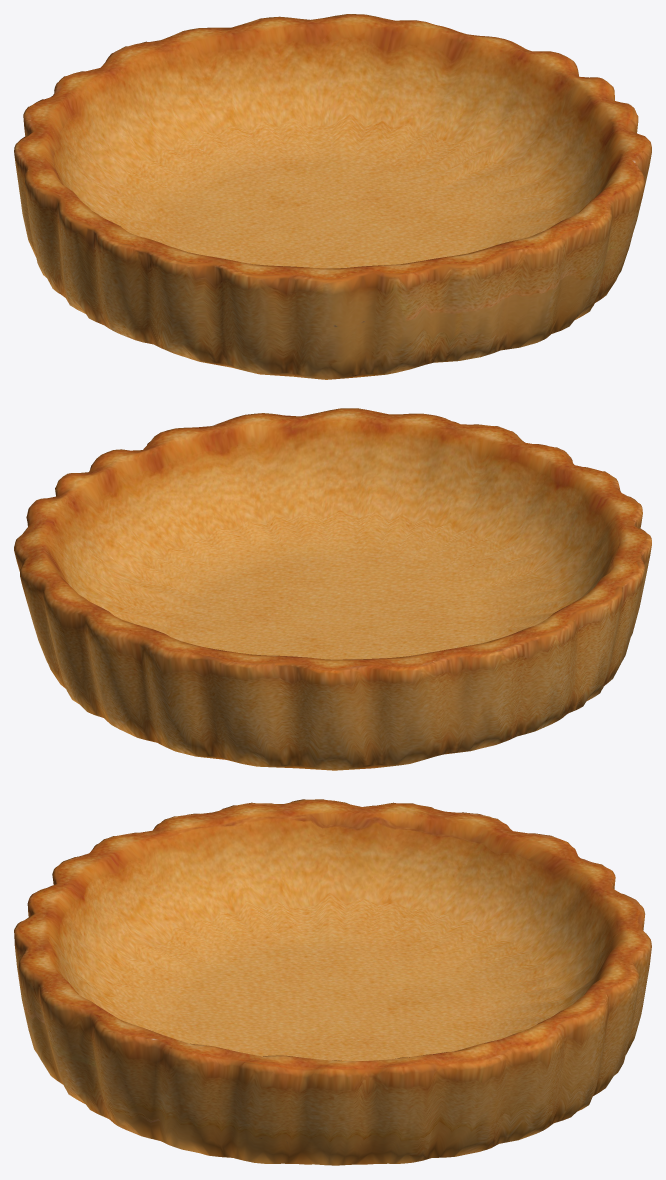
The model's file is Tart_Shell.fbx.
3 views of the same model, one above another, from view 1: azimuth 30°, elevation 25°; view 2: azimuth 150°, elevation 25°; view 3: azimuth 270°, elevation 25° (orthographic).
Parts seen in each view (by area): view 1: Tart_Shell; view 2: Tart_Shell; view 3: Tart_Shell.
Part boxes in pixels (bbox=[...]): Tart_Shell: bbox=[14, 14, 651, 379]; Tart_Shell: bbox=[14, 408, 651, 770]; Tart_Shell: bbox=[14, 799, 651, 1165].
Size of the model in its own units: 0.24 by 0.052 by 0.24.
Materials: 1 (1 with a texture image).
